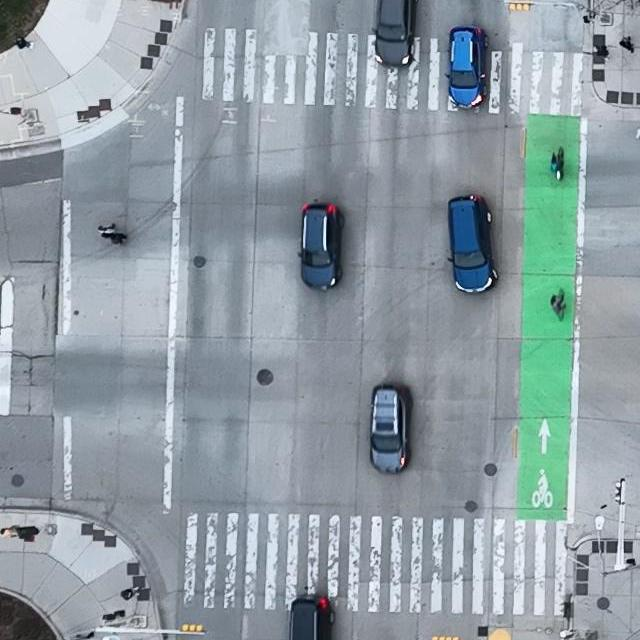car: (448, 194, 498, 295), (297, 199, 343, 291), (368, 384, 412, 474), (444, 25, 486, 110), (371, 0, 416, 67), (290, 595, 336, 640)
